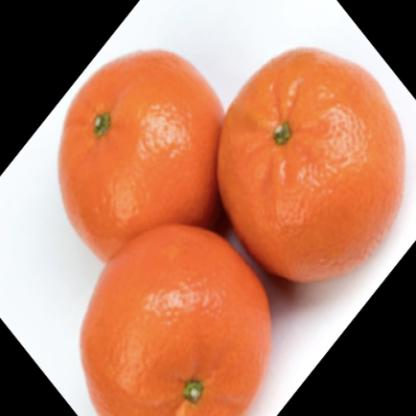fresh: (60, 48, 406, 416)
